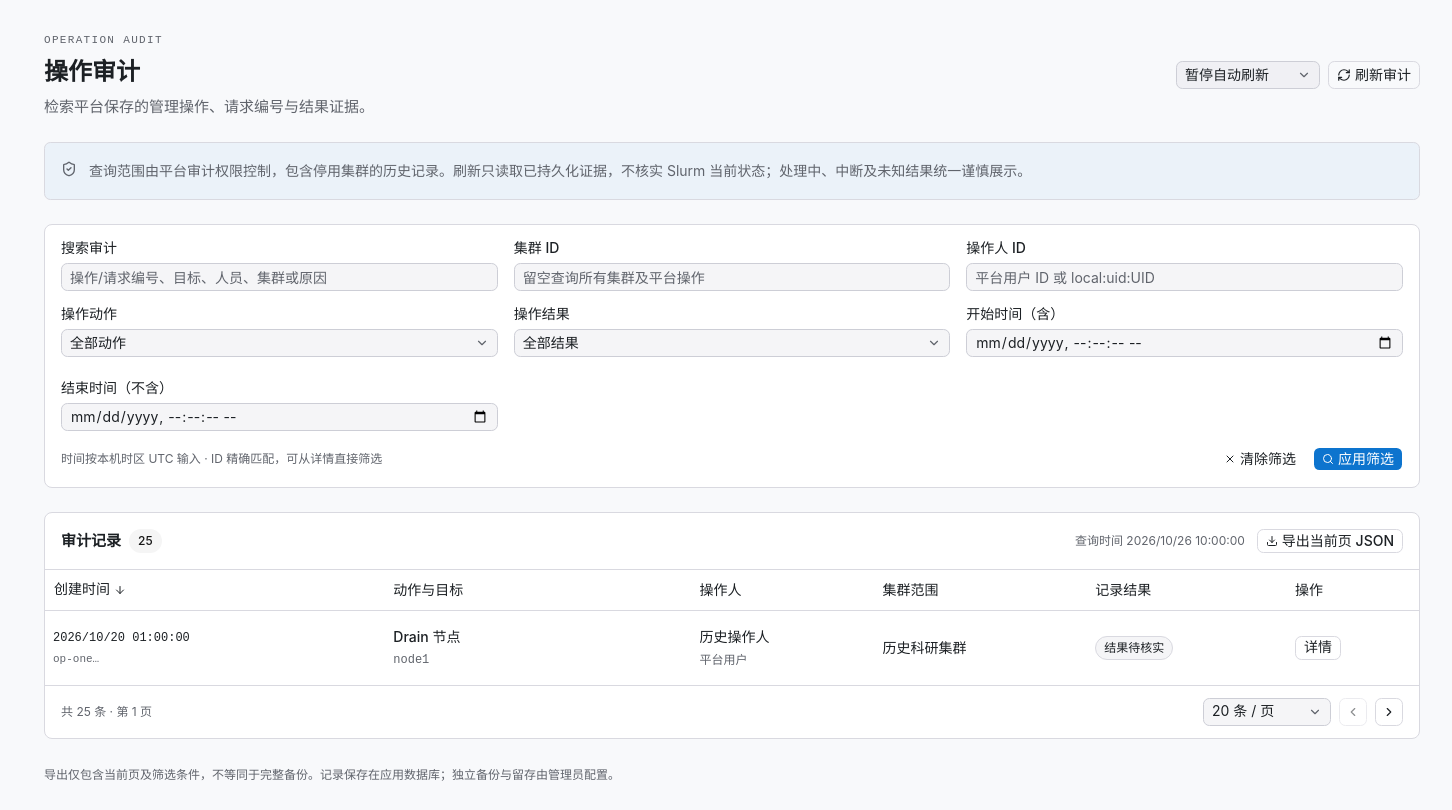
Scenario: 服务端分页、筛选及时间排序同步 URL
Check: the text "历史操作人" is shown, box [700, 628, 770, 644]
Click the button named "下一页审计" at (1389, 712), box [1375, 698, 1403, 726]
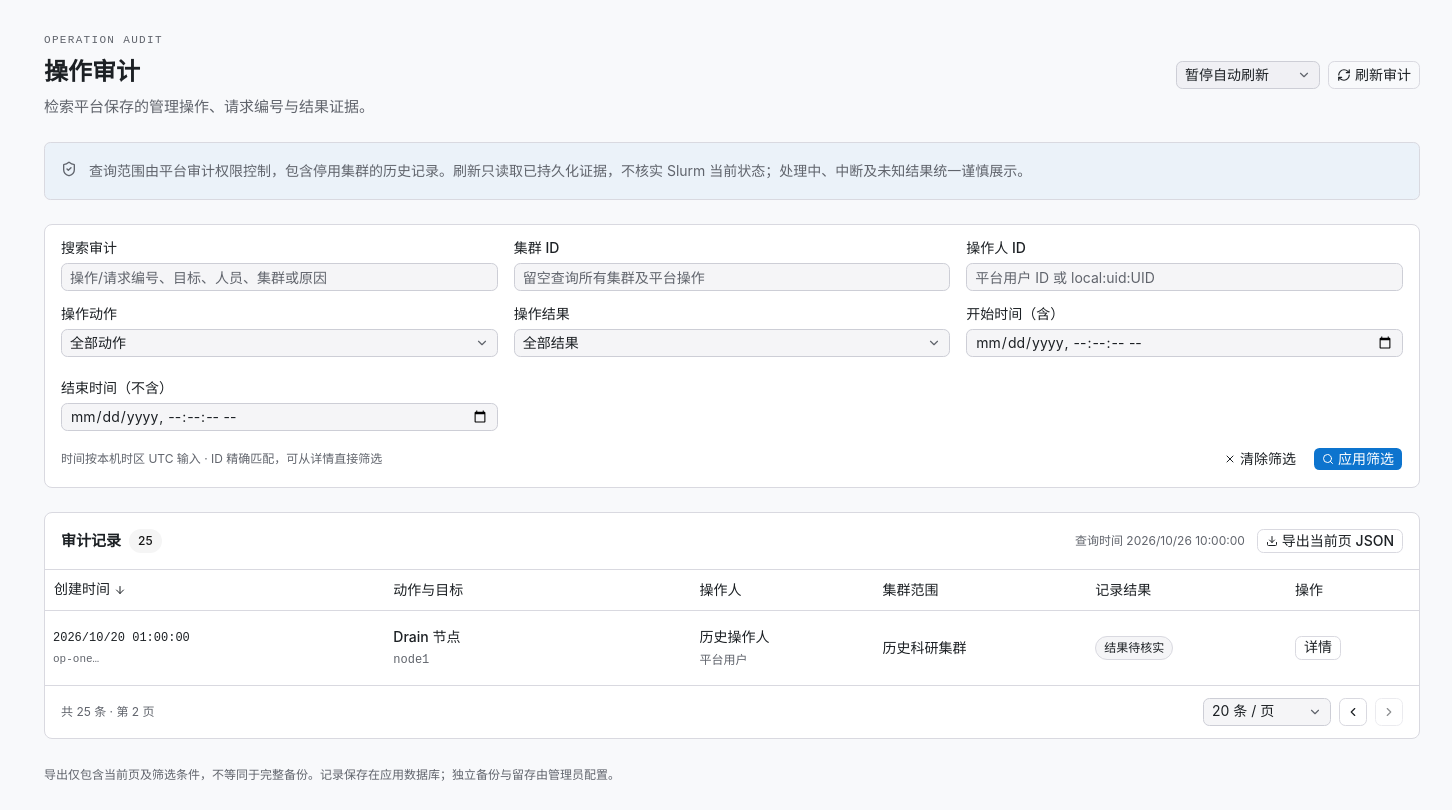
Type "request-one" into the field labelled "搜索审计" at (279, 277), box [61, 263, 498, 291]
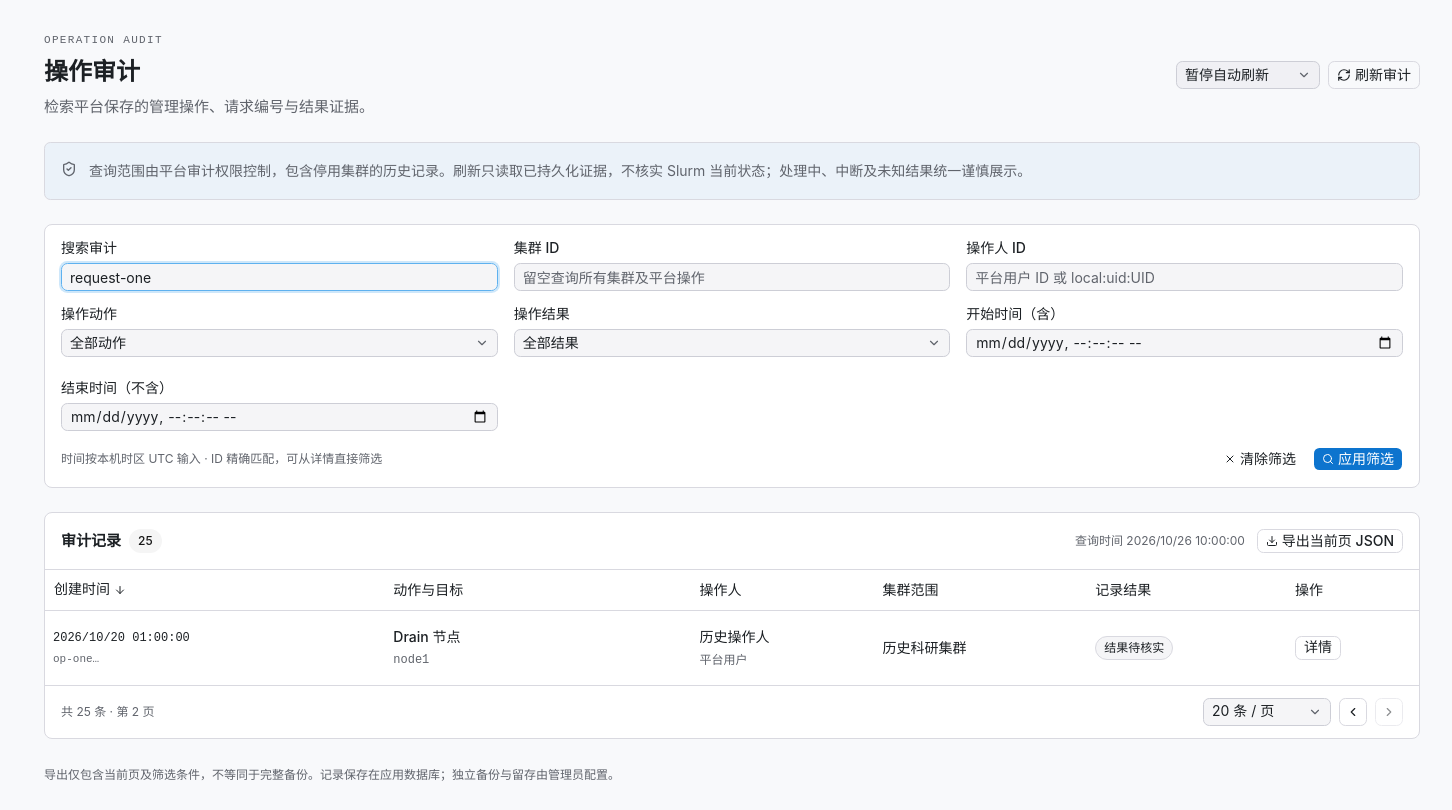
Type "cluster-old" into the field labelled "集群 ID" at (732, 277), box [514, 263, 950, 291]
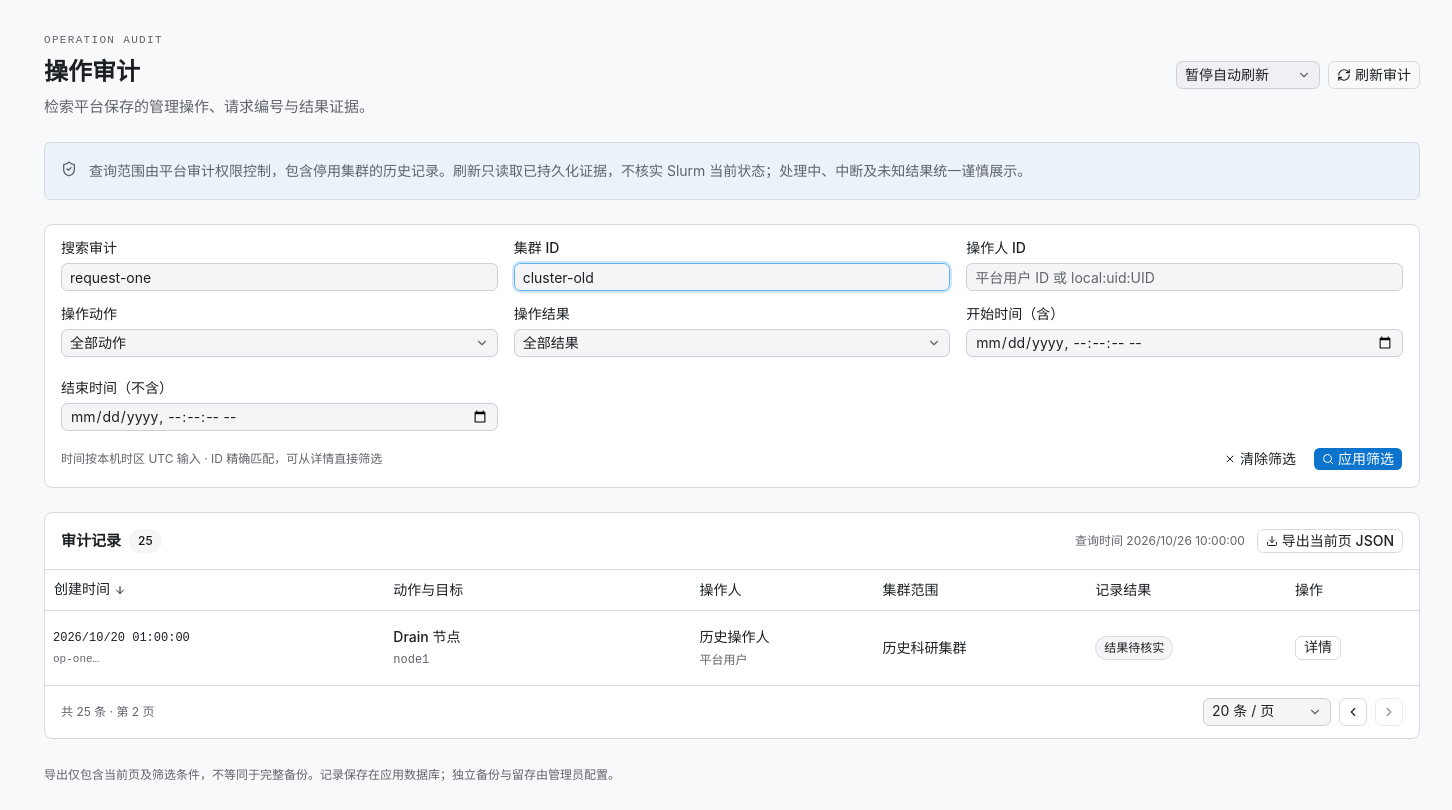
Click the button "应用筛选" at (1358, 459), box [1313, 447, 1403, 471]
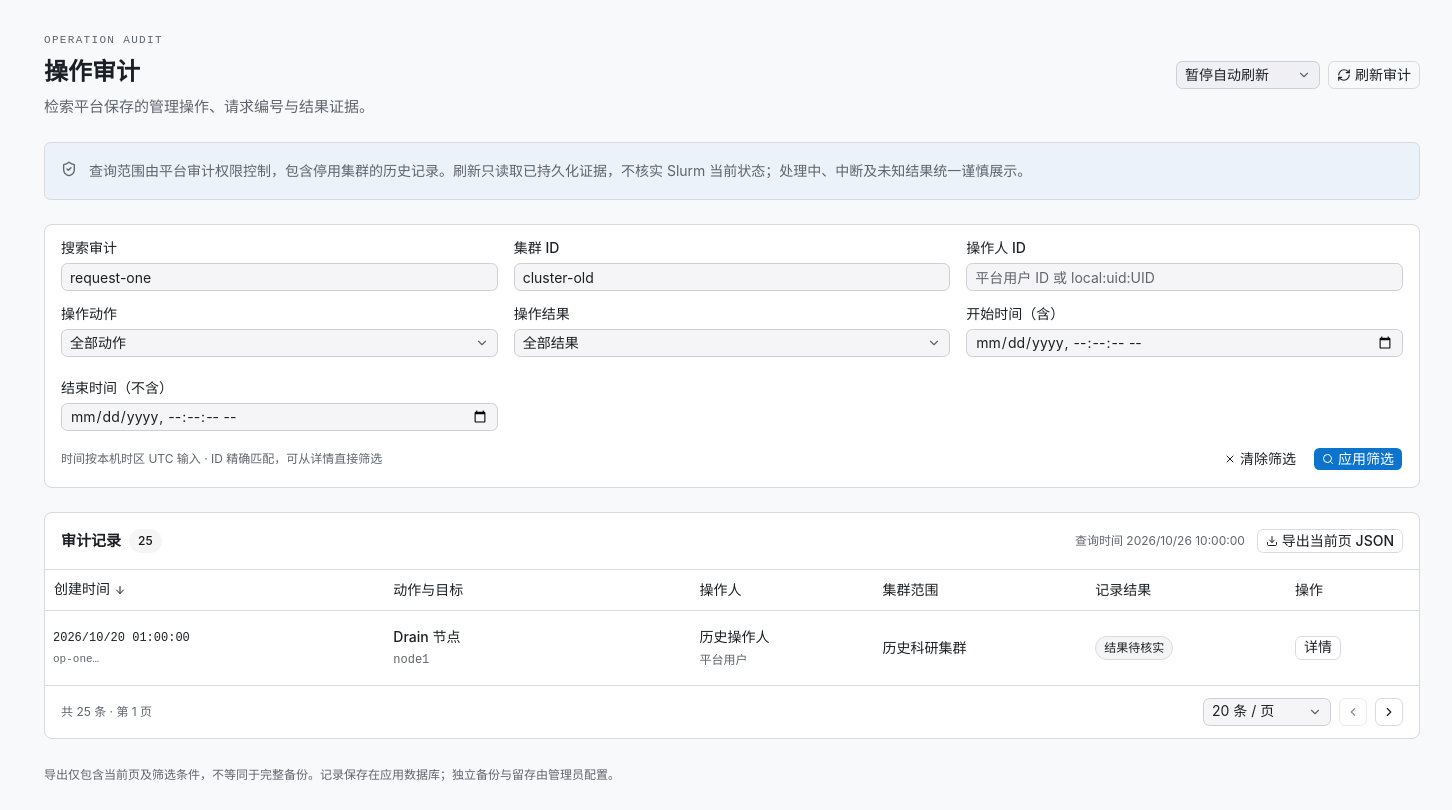
Click the button with aria-label "按创建时间排序" at (90, 590), box [45, 578, 135, 602]
(page scrolled)
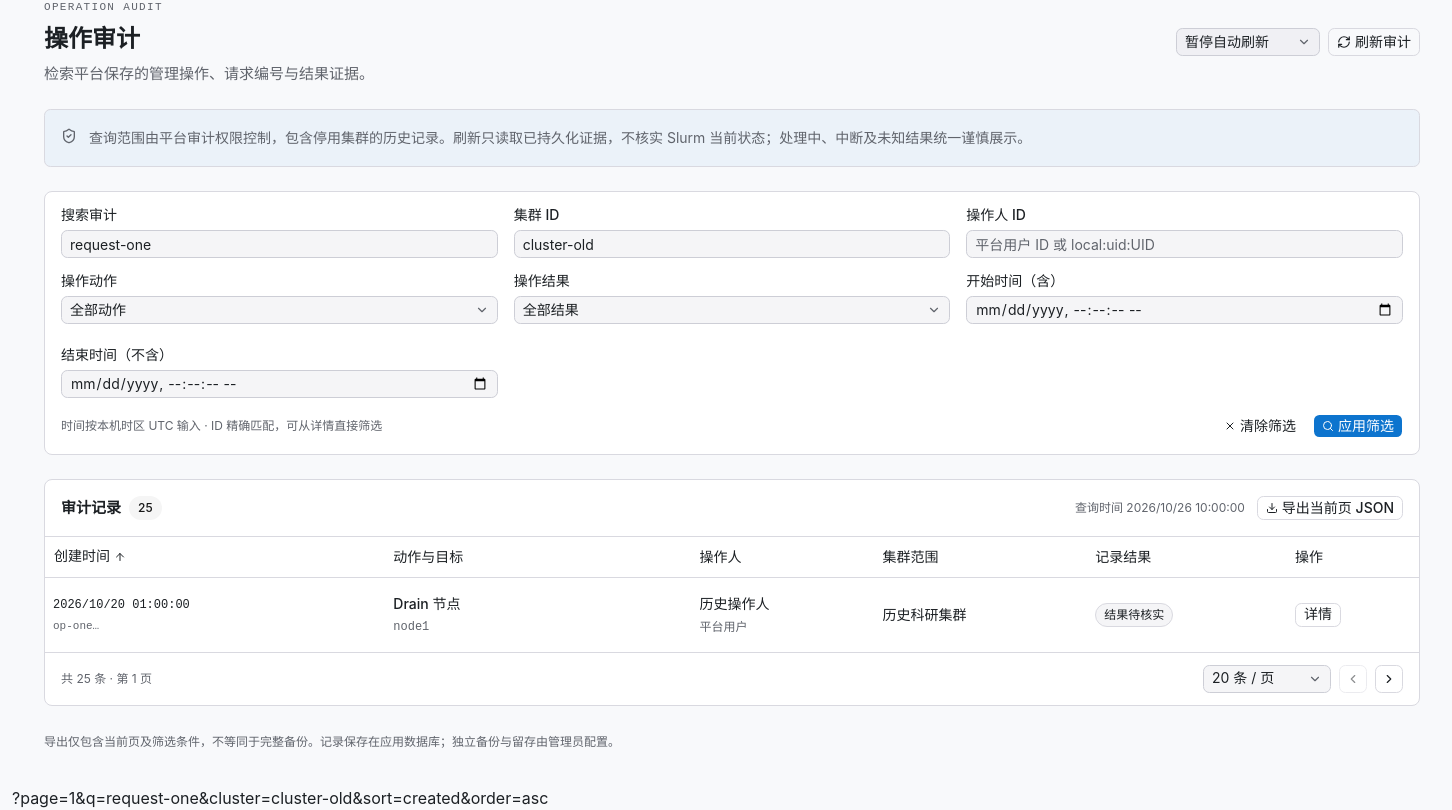
Check: the text named "当前查询" shows "order=asc", box [12, 788, 548, 808]
